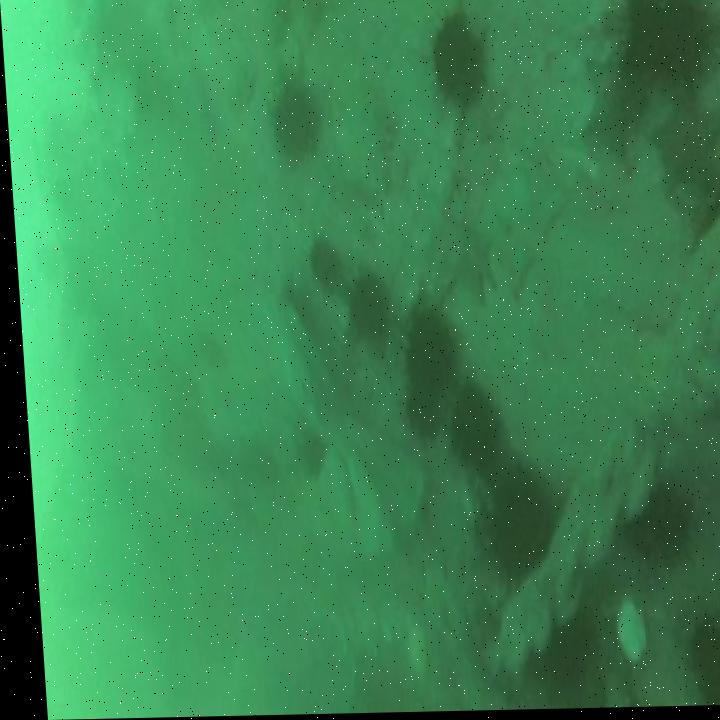echinus: (624, 0, 714, 91), (483, 471, 547, 582), (621, 493, 692, 568), (432, 17, 485, 99), (444, 388, 498, 467), (401, 309, 452, 386), (271, 87, 317, 161), (687, 629, 720, 709), (342, 280, 385, 341), (401, 384, 433, 439), (305, 243, 335, 290)
starfish: (490, 170, 567, 292), (450, 228, 491, 300)
